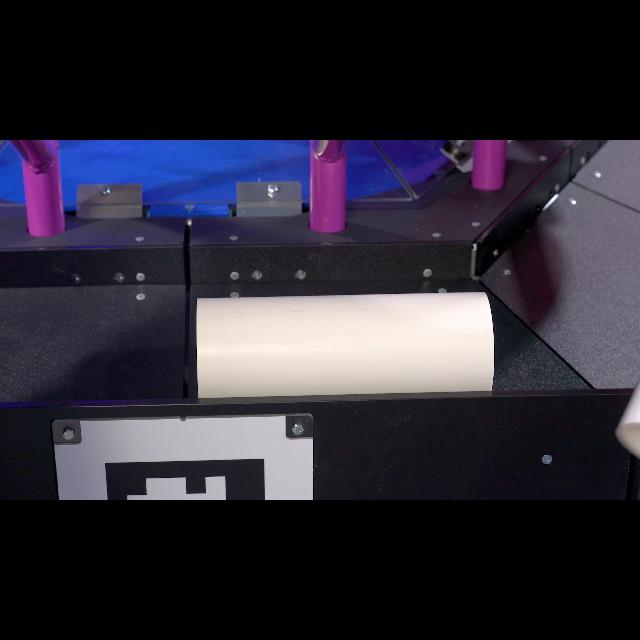CORAL: (195, 290, 495, 398)
